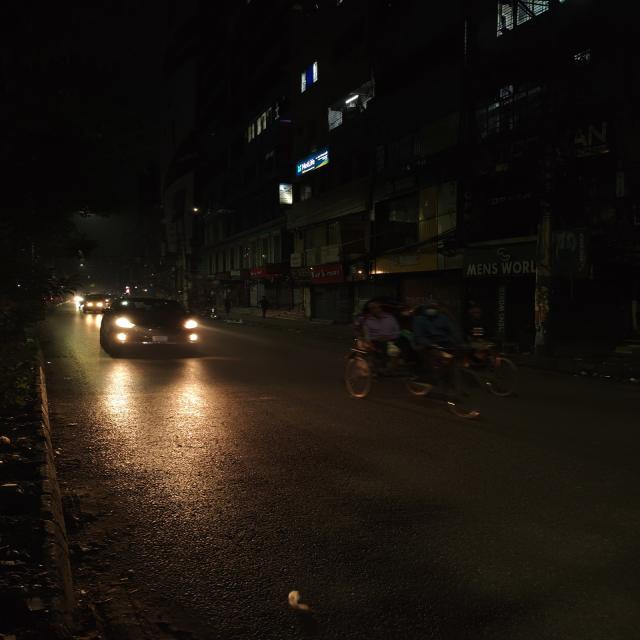car: (94, 294, 208, 362)
cng: (81, 292, 110, 316)
rickshaw: (329, 292, 531, 424)
